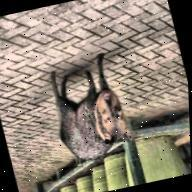boar: (40, 51, 137, 166)
